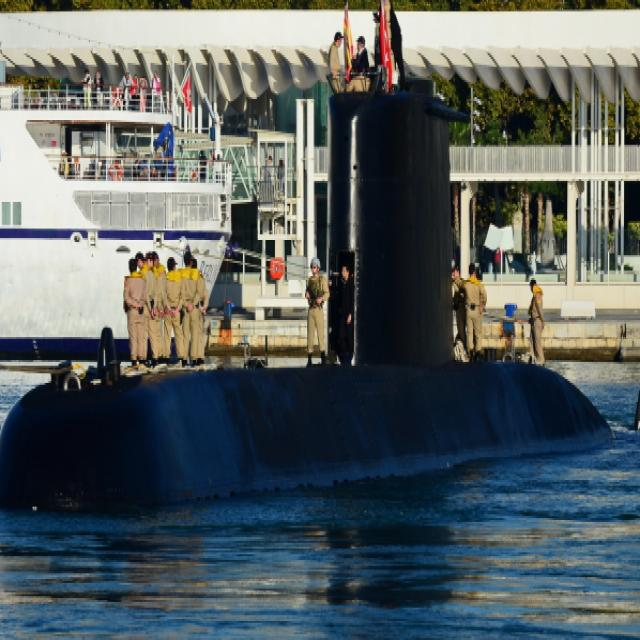submarine: (1, 83, 640, 508)
